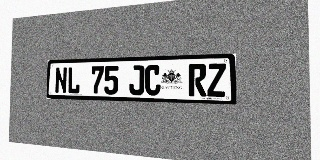5: (104, 66, 119, 95)
7: (90, 66, 104, 94)
C: (145, 65, 161, 96)
J: (129, 65, 144, 95)
L: (67, 67, 80, 94)
N: (55, 67, 67, 94)
R: (188, 64, 206, 96)
Z: (207, 63, 226, 97)
